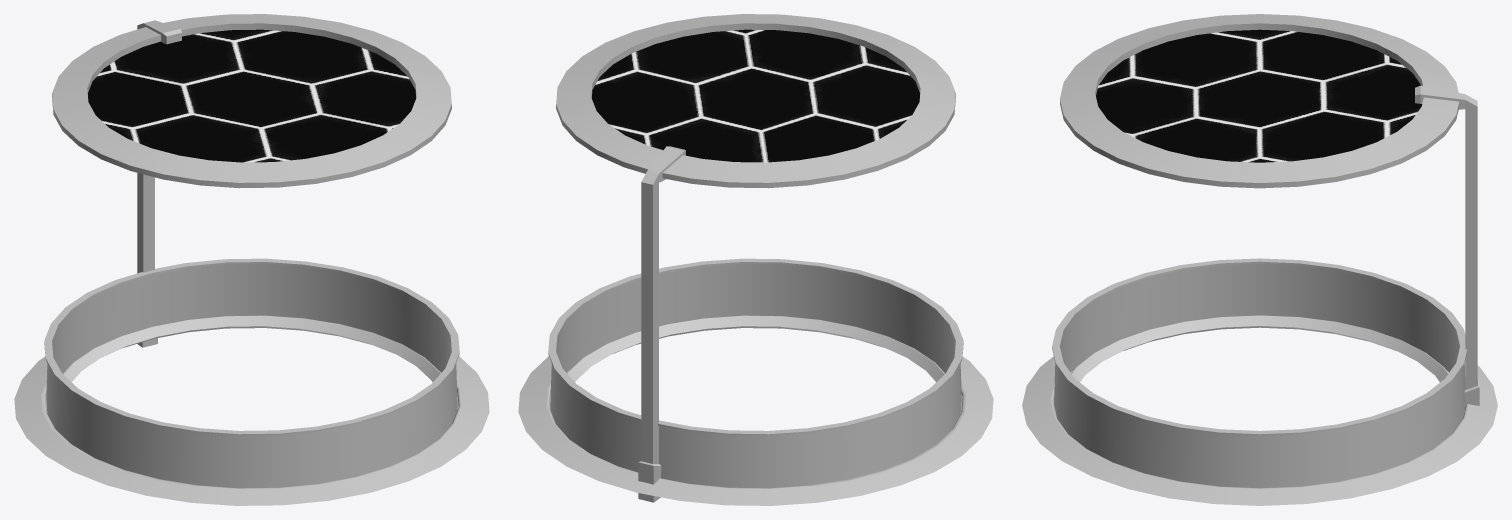
Rendered from ElevatorCap00.fbx.
3 views of the same model, side by side, from view 1: azimuth 30°, elevation 25°; view 2: azimuth 150°, elevation 25°; view 3: azimuth 270°, elevation 25° (orthographic).
Visible parts, largest first — view 1: UnderWallRound00, GridCap, CapRoundGrille00, UnderWallRoundGuide00, Poste00; view 2: UnderWallRound00, GridCap, CapRoundGrille00, UnderWallRoundGuide00, Poste00, PosteHolder00; view 3: UnderWallRound00, GridCap, CapRoundGrille00, UnderWallRoundGuide00, Poste00.
Part boxes in pixels (x1,y1,x2,y2): UnderWallRound00: (44,258,459,488); GridCap: (88,29,416,162); CapRoundGrille00: (52,14,451,188); UnderWallRoundGuide00: (14,315,489,505); Poste00: (137,20,181,273); UnderWallRound00: (548,258,963,488); GridCap: (591,29,919,162); CapRoundGrille00: (556,14,955,188); UnderWallRoundGuide00: (518,315,993,505); Poste00: (641,146,685,463); PosteHolder00: (638,461,661,502); UnderWallRound00: (1052,258,1467,488); GridCap: (1096,29,1422,162); CapRoundGrille00: (1060,14,1459,188); UnderWallRoundGuide00: (1022,315,1497,505); Poste00: (1415,85,1477,389).
Bounding box in the file's own units: 499 × 382 × 499.
